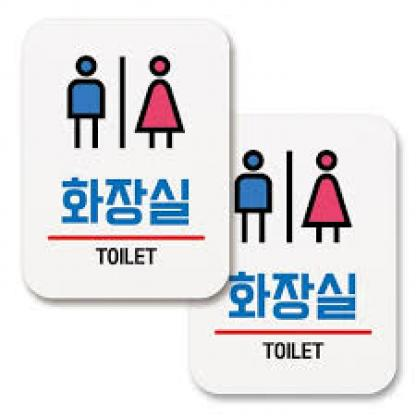toilet: (60, 49, 185, 156), (234, 148, 359, 248)
